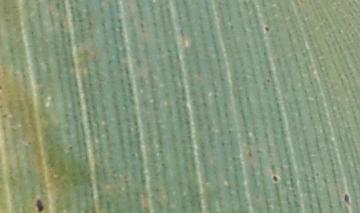tarspot: (34, 198, 44, 213), (342, 191, 351, 206), (106, 57, 114, 65), (271, 174, 278, 183), (263, 25, 270, 33), (165, 47, 173, 54), (228, 23, 235, 31), (55, 1, 60, 11), (264, 77, 271, 84), (67, 144, 74, 151), (1, 113, 9, 119), (314, 170, 320, 177), (138, 21, 144, 28), (22, 143, 28, 150), (262, 49, 266, 58), (1, 83, 2, 92)
